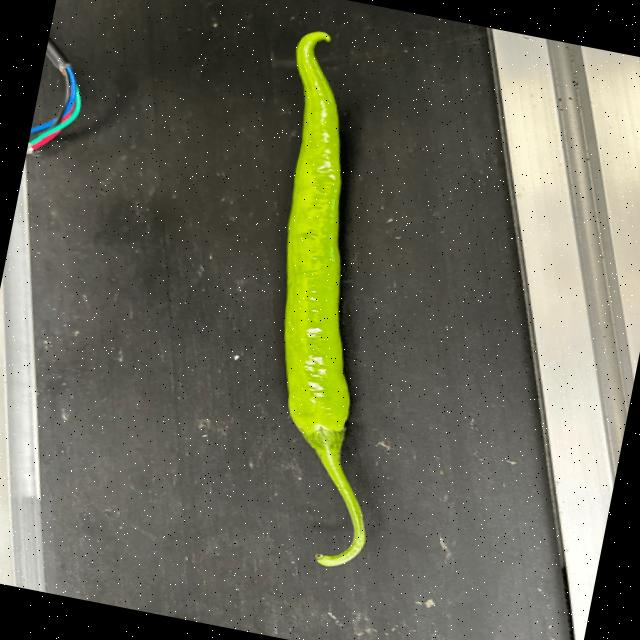chili: (282, 29, 353, 452)
